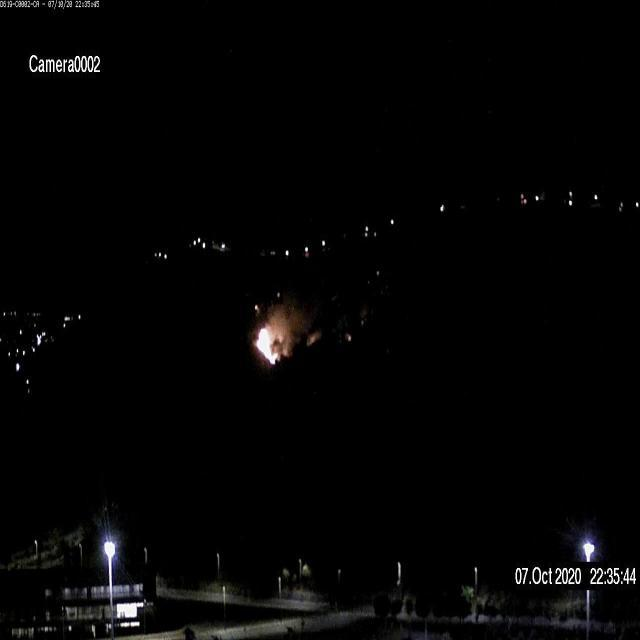Fire: (254, 320, 282, 364)
Smoke: (271, 307, 291, 353)
